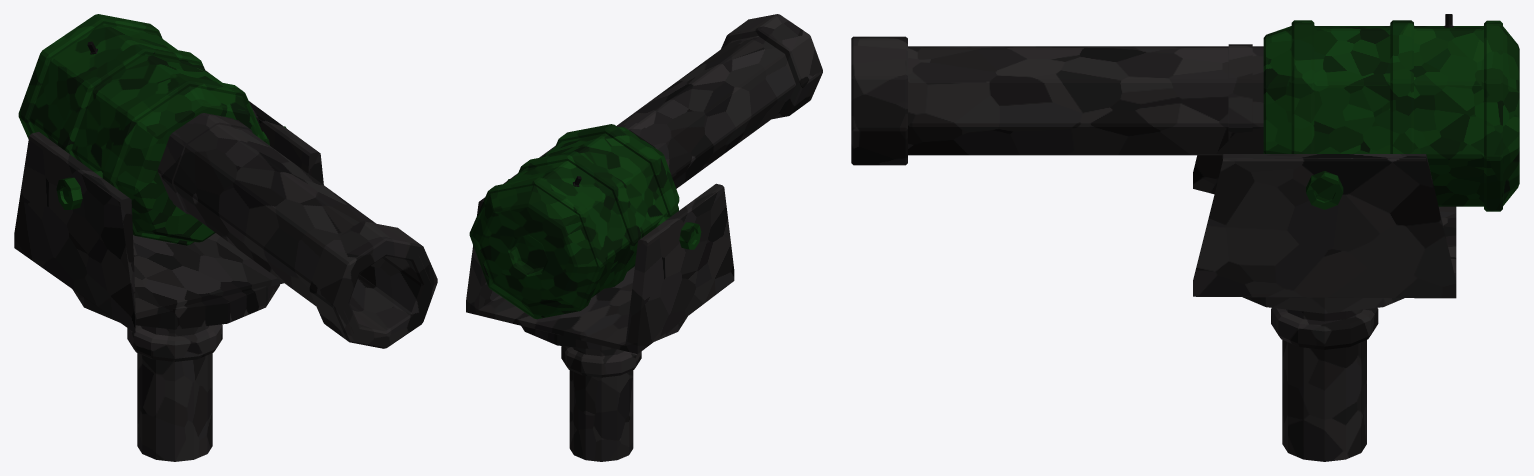
Rendered from Canon_moving.glb.
3 renders of one model, left to right at view 1: azimuth 30°, elevation 25°; view 2: azimuth 150°, elevation 25°; view 3: azimuth 270°, elevation 25°, orthographic. The views are drawn at different scales.
Visible parts, largest first — view 1: Cylinder.002; view 2: Cylinder.002; view 3: Cylinder.002.
Part boxes in pixels (x1,y1,x2,y2): Cylinder.002: (14, 14, 437, 461); Cylinder.002: (466, 14, 822, 461); Cylinder.002: (851, 14, 1519, 461).
Size of the model in its own units: 1.49 by 2.42 by 3.49.
2 materials, 2 textured.
